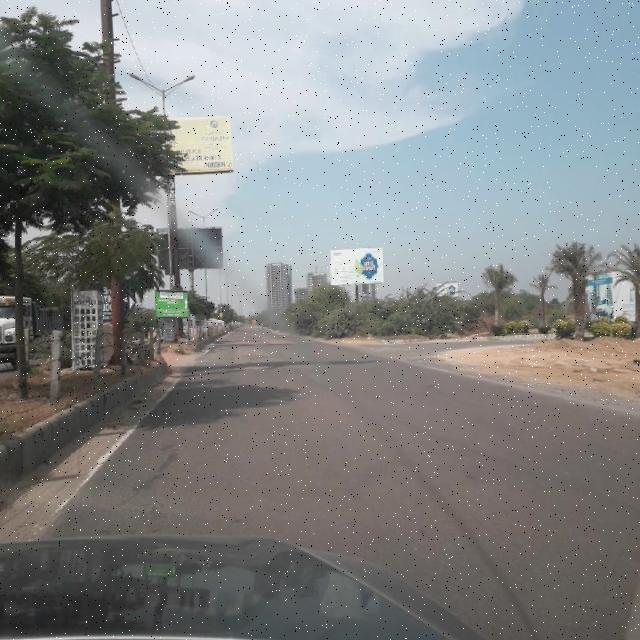D00: (126, 438, 182, 518)
D40: (223, 339, 286, 384)
